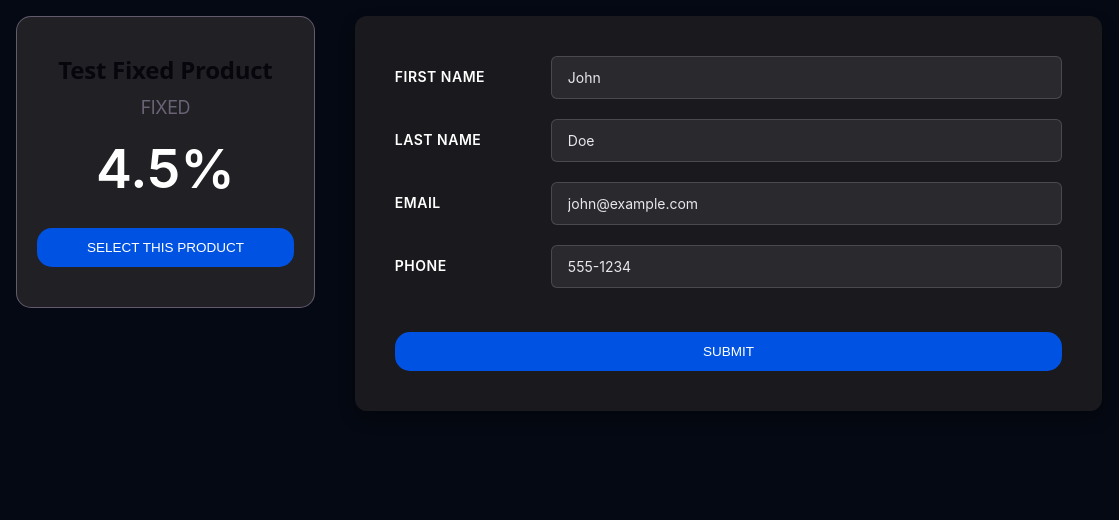
Test: Form › shows a success message after a successful submit
Step 1. Click the button "Submit" → coordinates (728, 352), box left=395, top=332, right=1062, bottom=371
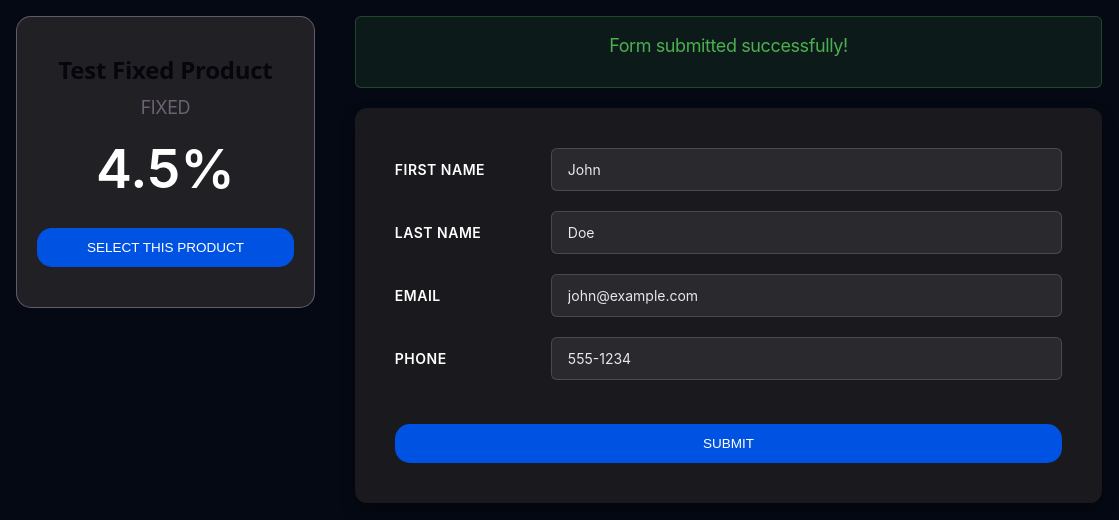
Now the 1st text "form submitted successfully" is shown, box left=609, top=35, right=848, bottom=56
